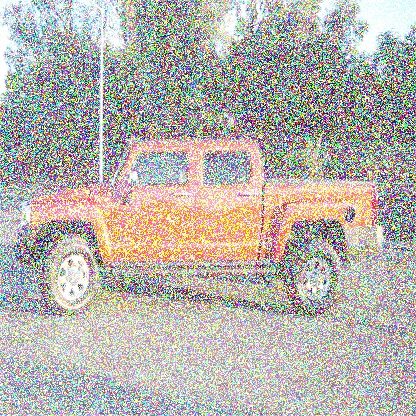Vehicle: (16, 138, 389, 319)
